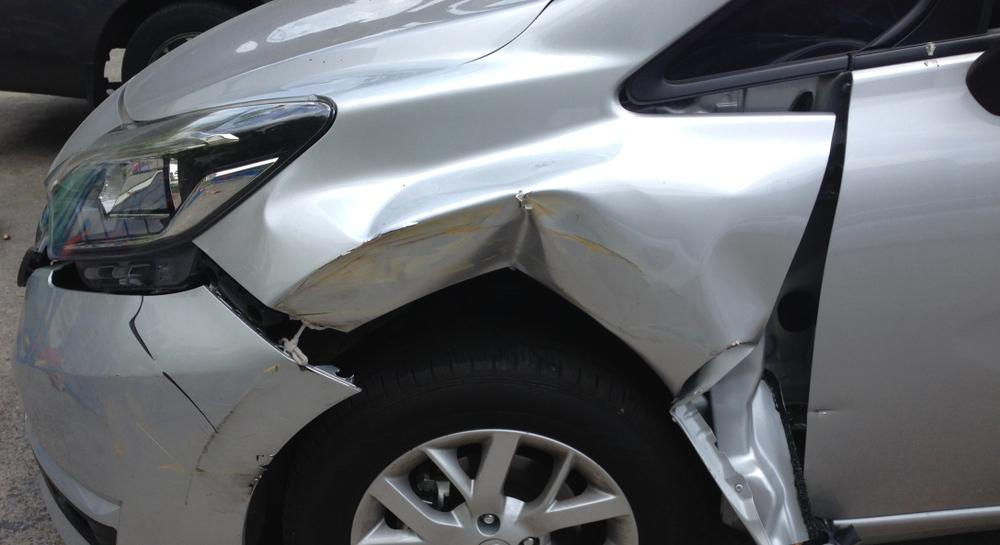dent: (450, 191, 798, 370)
scratch: (104, 295, 274, 507), (272, 196, 512, 326)
